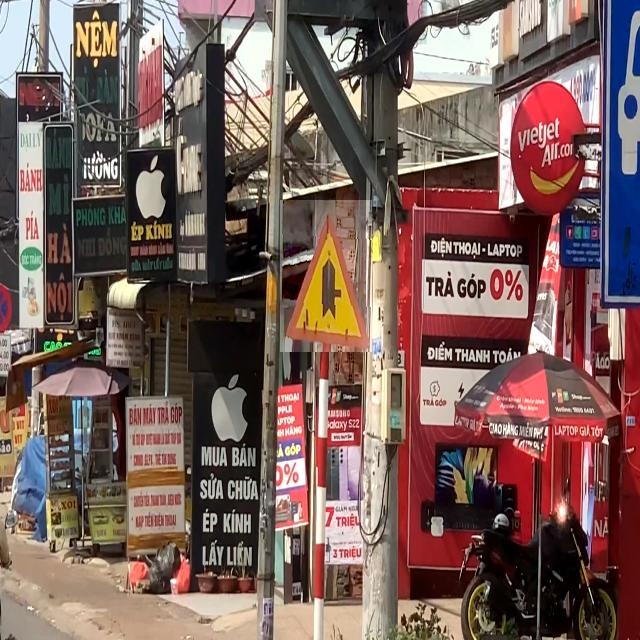bien_nguy_hiem: (280, 200, 372, 352)
